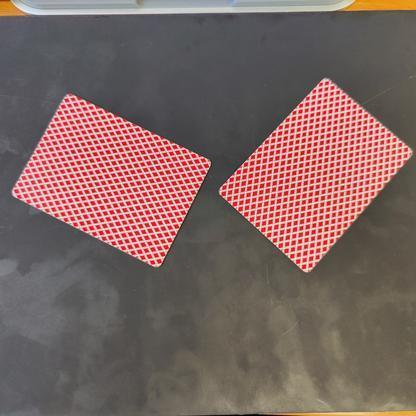card: (216, 72, 416, 283), (8, 85, 217, 282)
